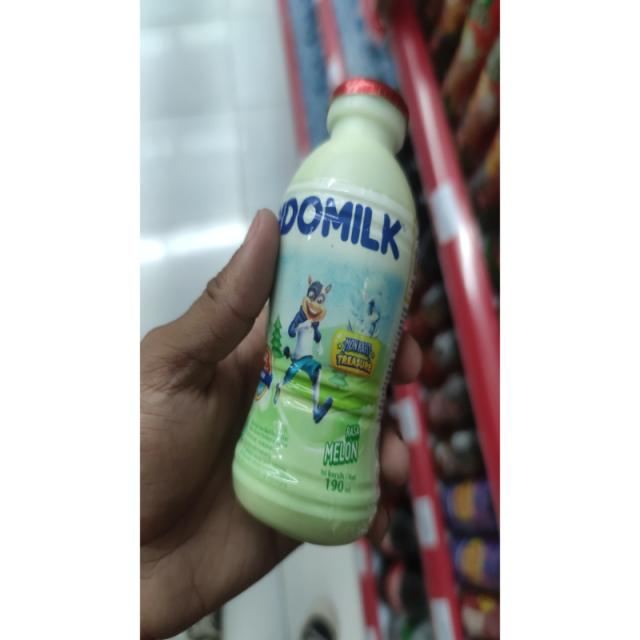botol: (185, 49, 479, 566)
